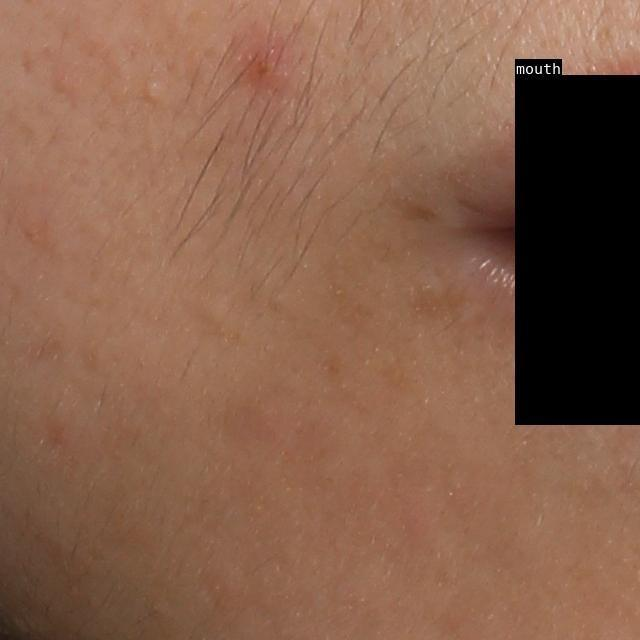comedo: (138, 78, 171, 106)
papule: (239, 35, 289, 95)
